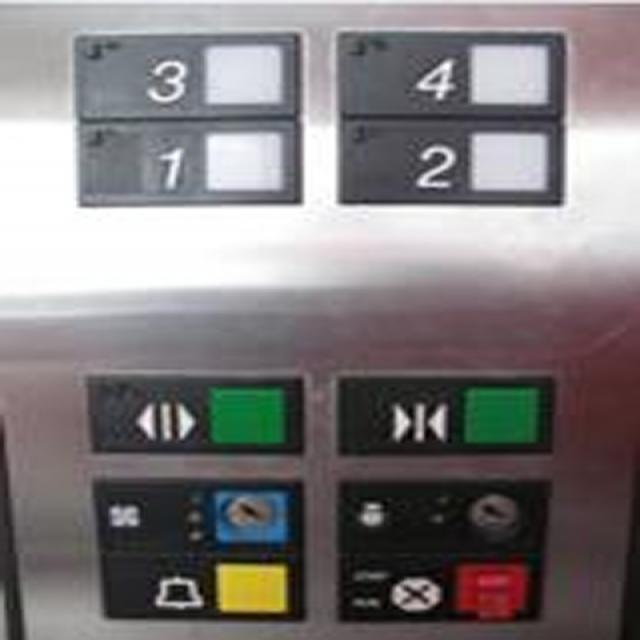1: (69, 114, 307, 208)
2: (330, 114, 566, 206)
3: (68, 28, 305, 121)
4: (330, 26, 570, 119)
alarm: (95, 542, 308, 623)
close: (332, 371, 556, 459)
fan: (86, 472, 306, 558)
light: (328, 471, 552, 563)
open: (81, 365, 308, 457)
stop: (329, 546, 547, 630)
